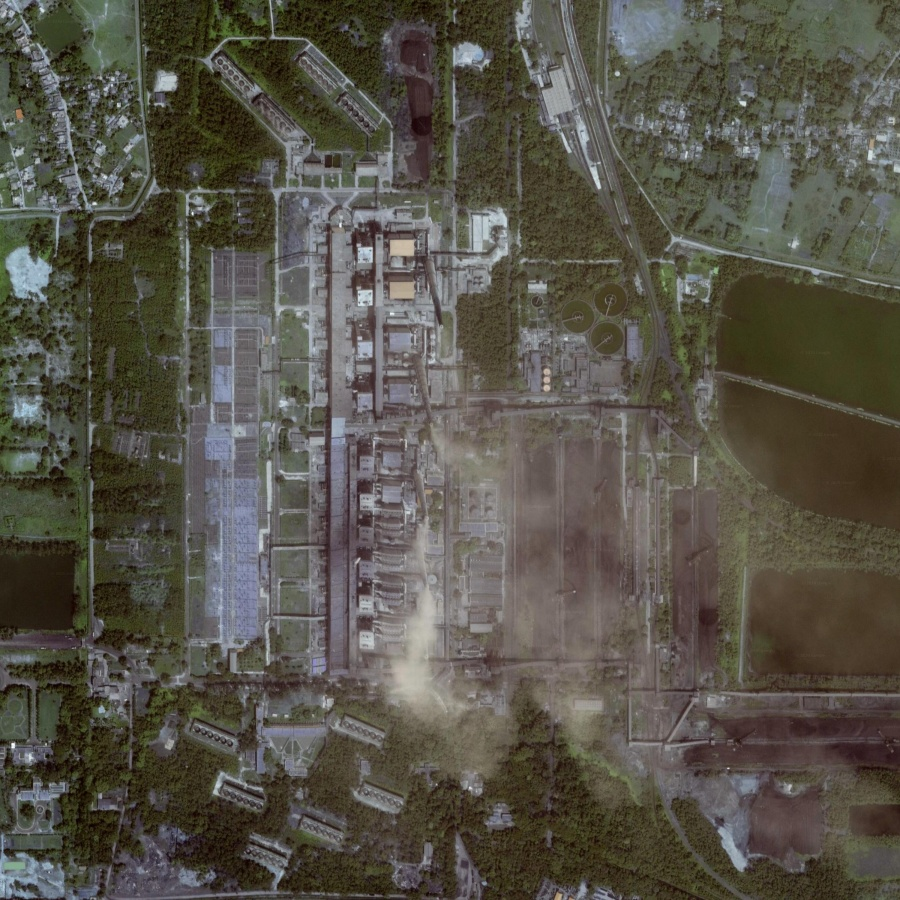PowerPlant: (400, 408, 730, 729)
